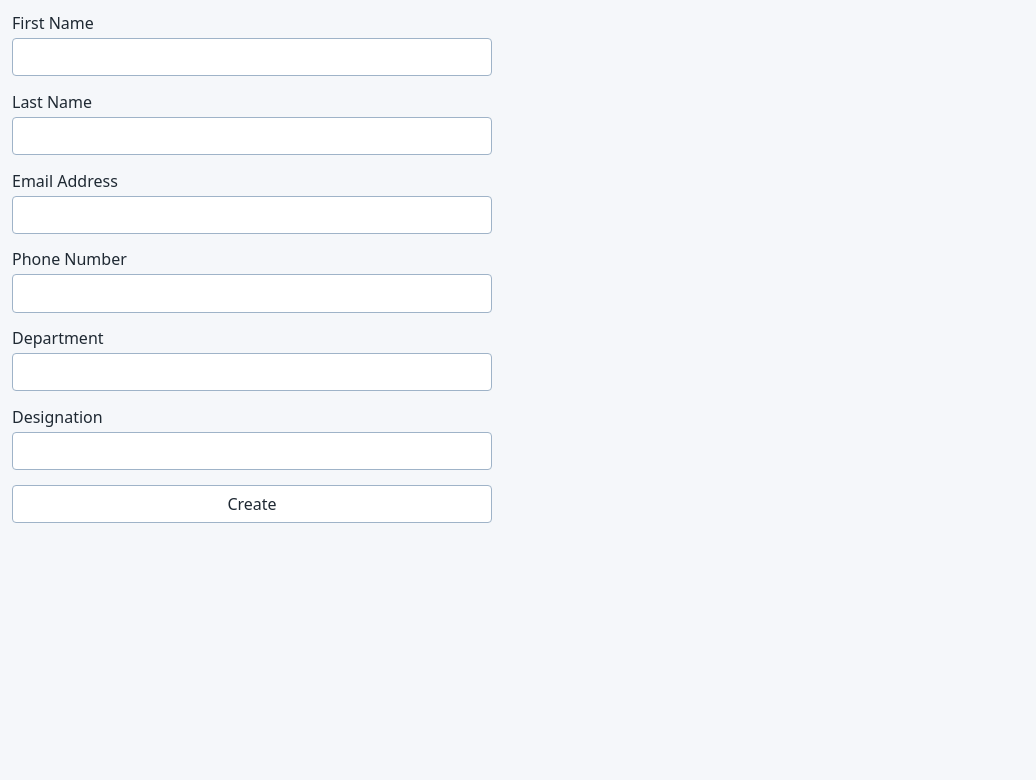
Test case: UserForm › shows an error notification for other failures
Type "John" into the field labelled "First Name" at (252, 57), box [12,38,492,76]
Type "Doe" into the field labelled "Last Name" at (252, 136), box [12,117,492,155]
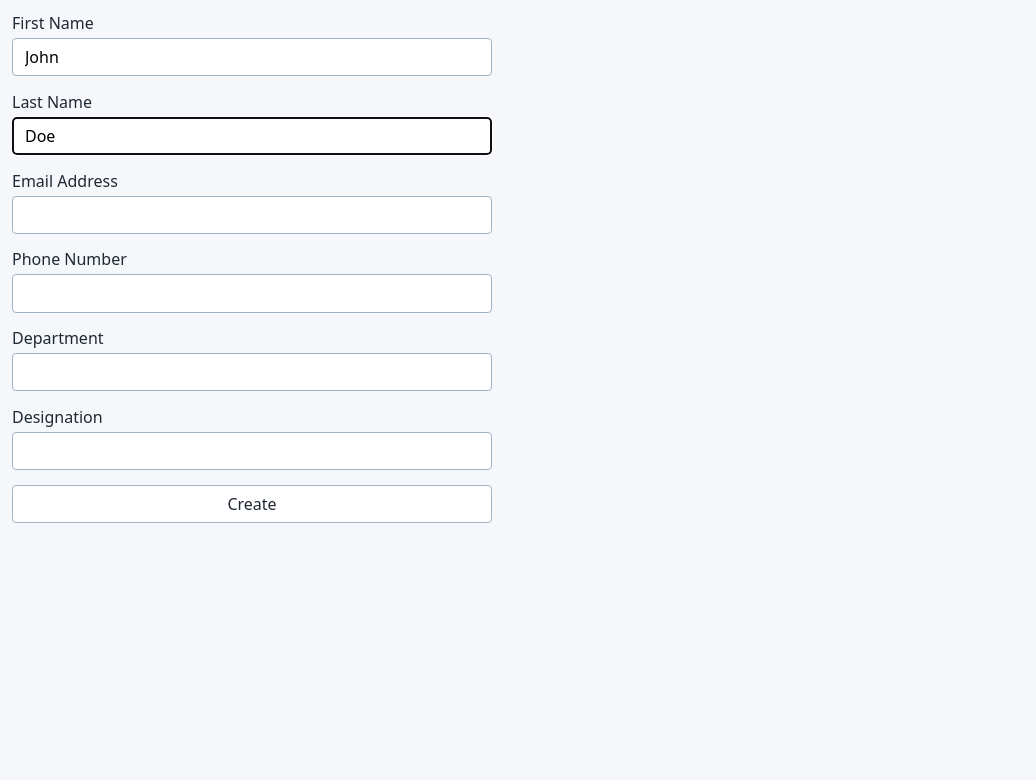
Type "john@example.com" into the field labelled "Email Address" at (252, 215), box [12,196,492,234]
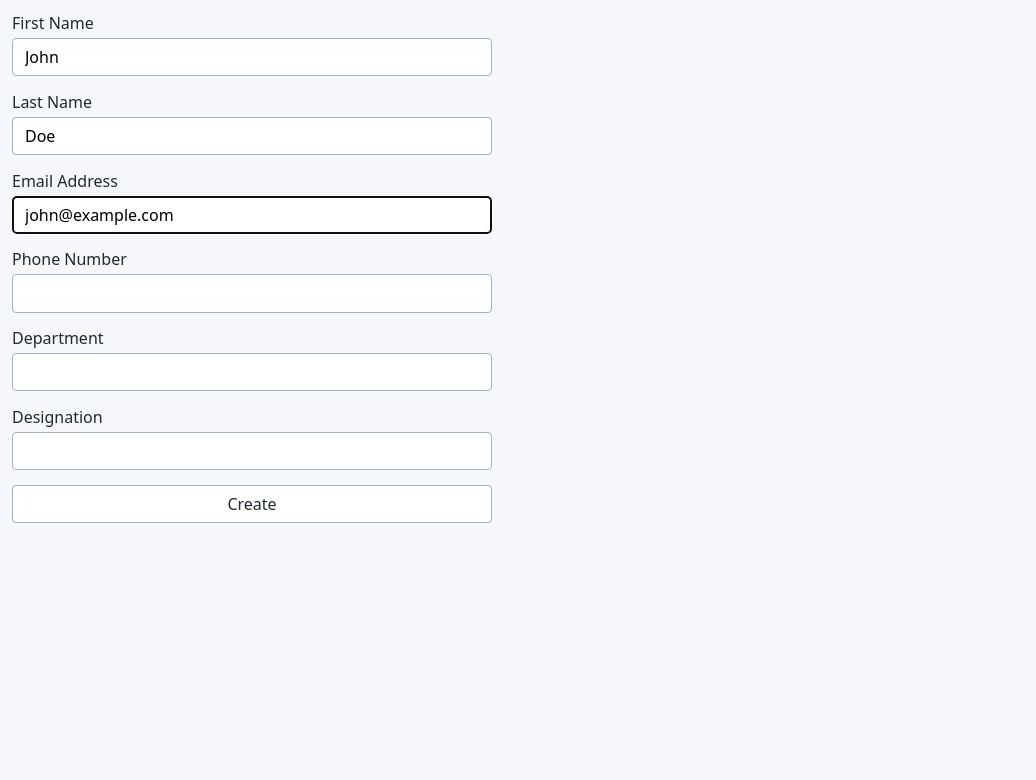
Type "+911234567890" into the field labelled "Phone Number" at (252, 294), box [12,274,492,313]
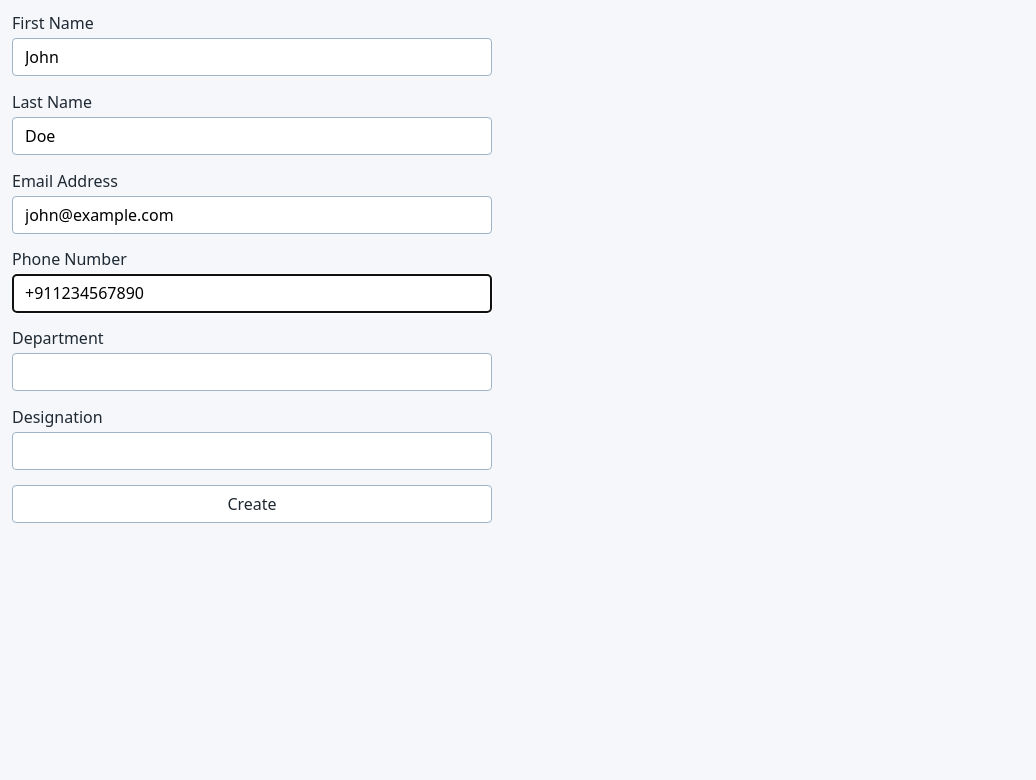
Type "Engineering" into the field labelled "Department" at (252, 372), box [12,353,492,392]
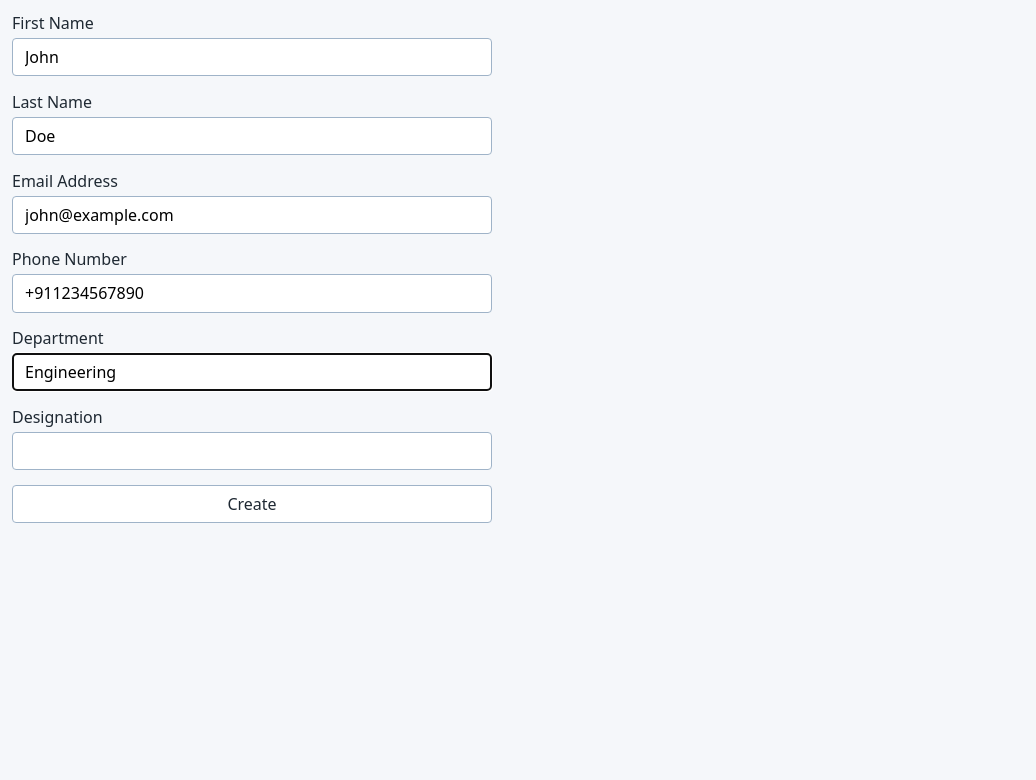
Type "Engineer" into the field labelled "Designation" at (252, 451), box [12,432,492,470]
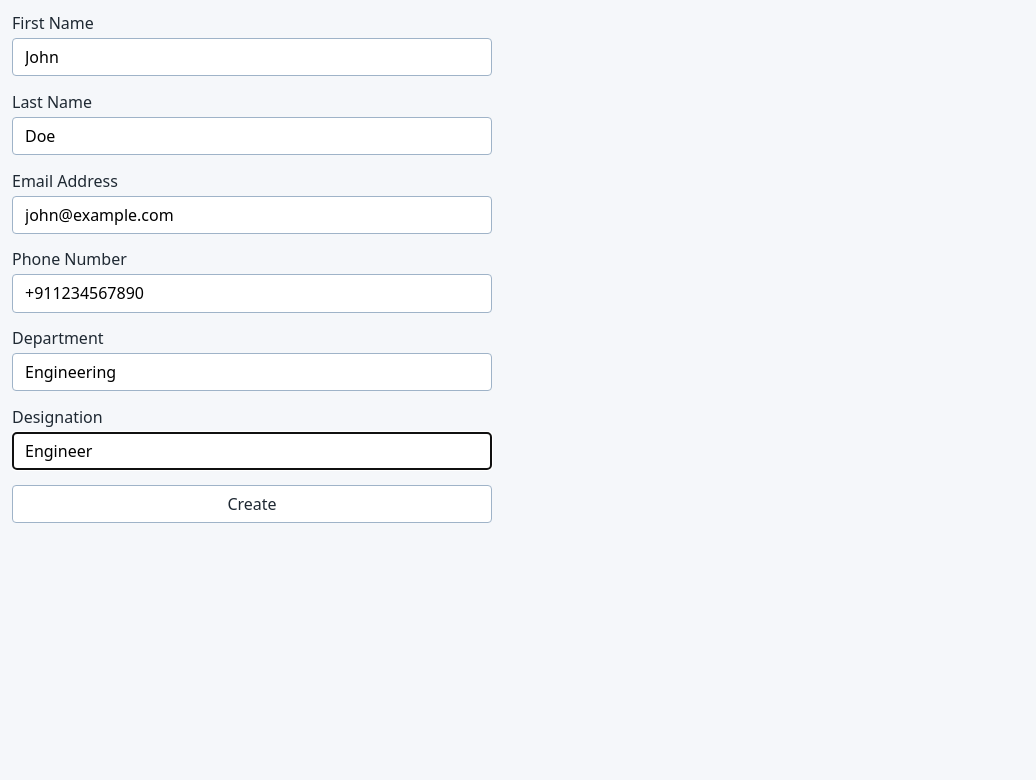
Click the button "Create" at (252, 504), box [12,485,492,523]
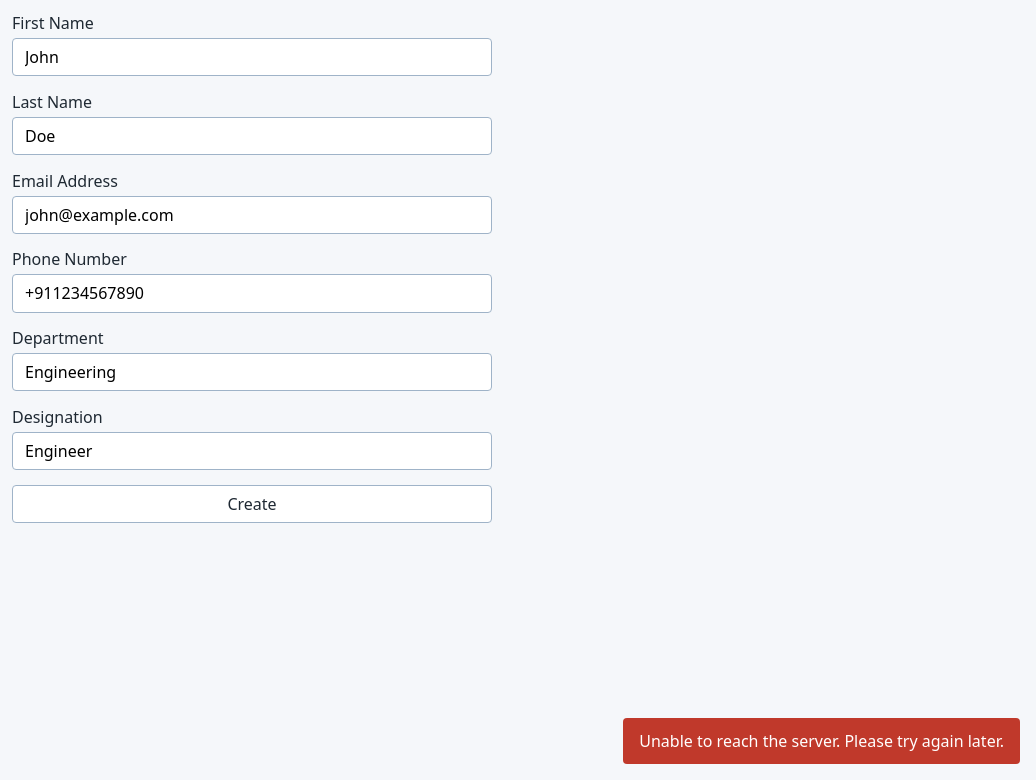
Expected: the text "Unable to reach the server. Please try again later." is shown, [623,718,1020,764]
